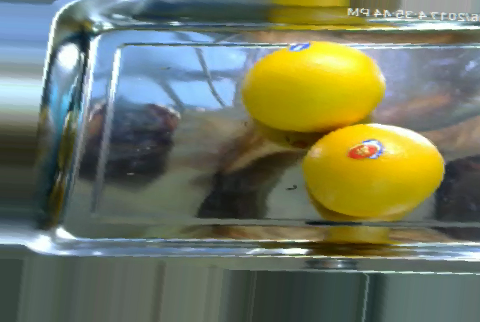Orange: (300, 121, 444, 217), (240, 40, 384, 132)
